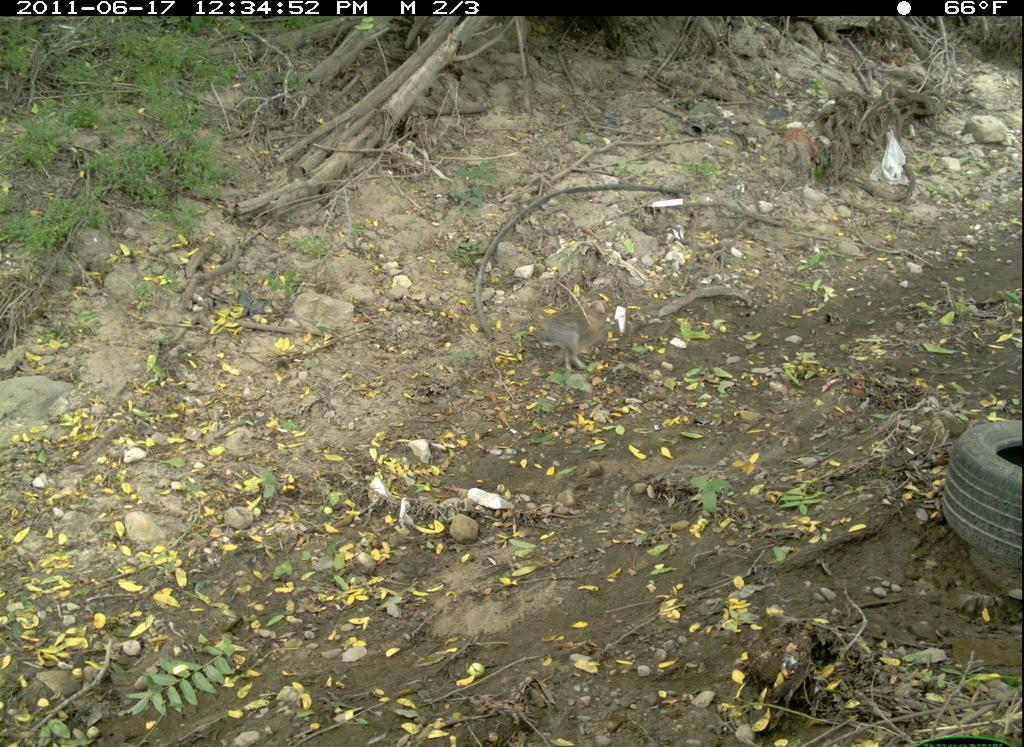rabbit: (528, 286, 630, 377)
